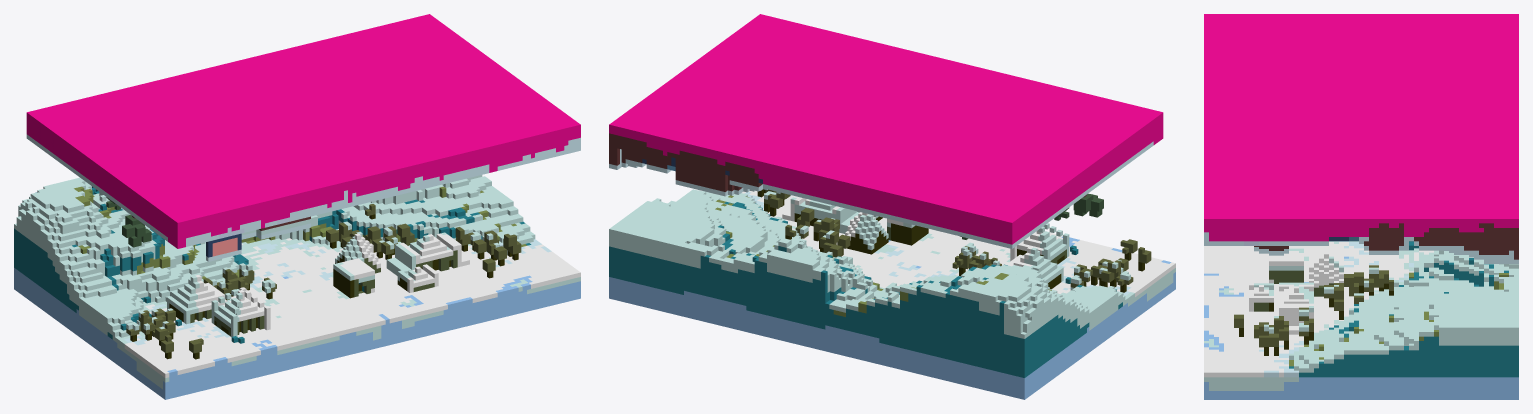
Rendered from winter.FBX.
3 views of the same model, side by side, from view 1: azimuth 30°, elevation 25°; view 2: azimuth 150°, elevation 25°; view 3: azimuth 270°, elevation 25° (orthographic). The views are drawn at different scales.
Parts seen in each view (by area): view 1: winter1; view 2: winter1; view 3: winter1.
Part boxes in pixels (<box>): winter1: <box>14,14,580,399</box>; winter1: <box>609,14,1175,399</box>; winter1: <box>1204,14,1518,399</box>.
Bounding box in the file's own units: 100 × 40 × 63.
1 material, 1 textured.
